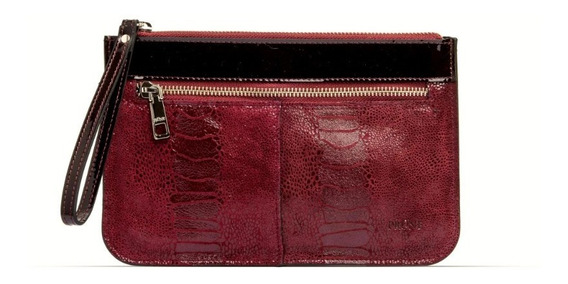cartera: (58, 14, 464, 269)
